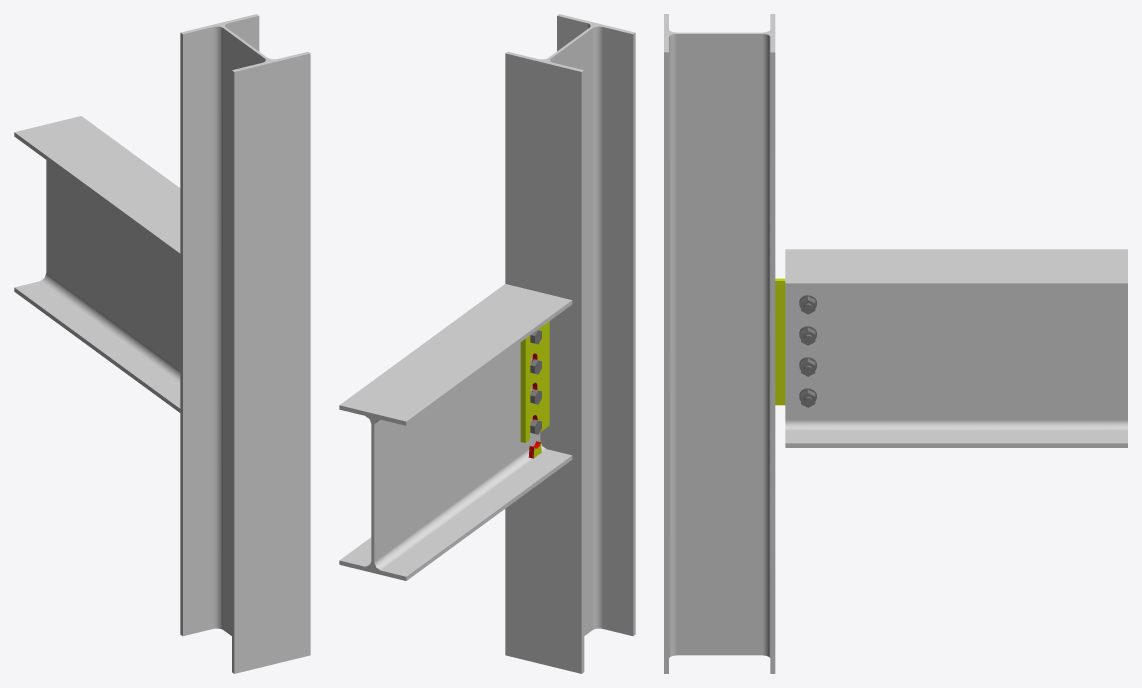
File: 04c-Bearing and Tearout at plate.glb
3 views of the same model, side by side, from view 1: azimuth 30°, elevation 25°; view 2: azimuth 150°, elevation 25°; view 3: azimuth 270°, elevation 25° (orthographic). The views are drawn at different scales.
Visible parts, largest first — view 1: W-Wide Flange-Column W10X33 (1) [1245414], W-Wide Flange W16X36 (1) [1518880]; view 2: W-Wide Flange-Column W10X33 (1) [1245414], W-Wide Flange W16X36 (1) [1518880], [1715079], [1715081]; view 3: W-Wide Flange-Column W10X33 (1) [1245414], W-Wide Flange W16X36 (1) [1518880], [1715079], [1715081].
Part boxes in pixels (left/top/right/bottom): W-Wide Flange-Column W10X33 (1) [1245414]: left=180, top=14, right=310, bottom=673; W-Wide Flange W16X36 (1) [1518880]: left=14, top=116, right=180, bottom=412; W-Wide Flange-Column W10X33 (1) [1245414]: left=505, top=14, right=635, bottom=673; W-Wide Flange W16X36 (1) [1518880]: left=339, top=284, right=572, bottom=580; [1715079]: left=520, top=321, right=549, bottom=442; [1715081]: left=530, top=330, right=541, bottom=434; W-Wide Flange-Column W10X33 (1) [1245414]: left=664, top=14, right=775, bottom=673; W-Wide Flange W16X36 (1) [1518880]: left=785, top=249, right=1127, bottom=447; [1715079]: left=775, top=278, right=785, bottom=405; [1715081]: left=799, top=294, right=816, bottom=407.
Size of the model in its own units: 0.2022 by 1.52 by 1.03.
